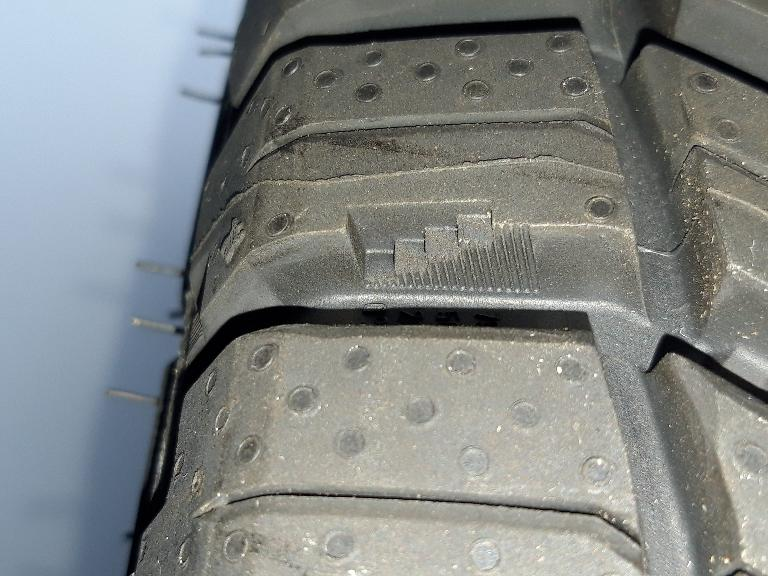temoin:100: (338, 192, 548, 303)
